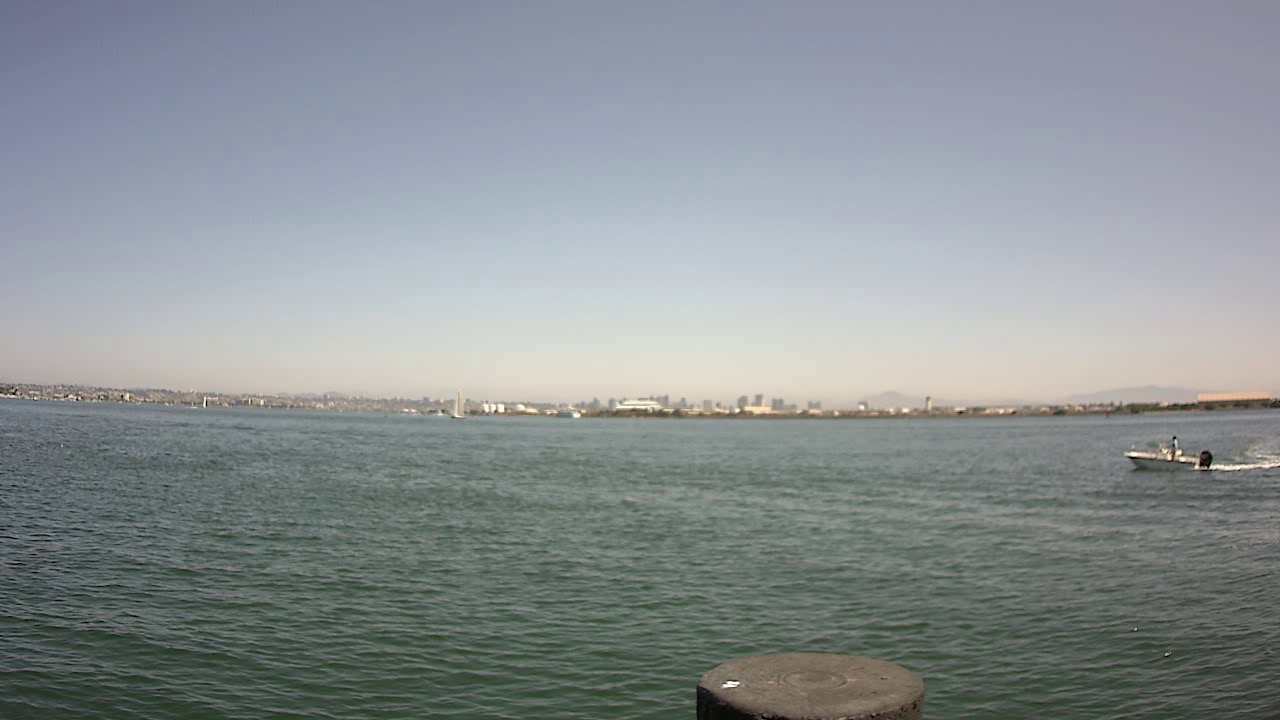target: (1114, 426, 1221, 480)
